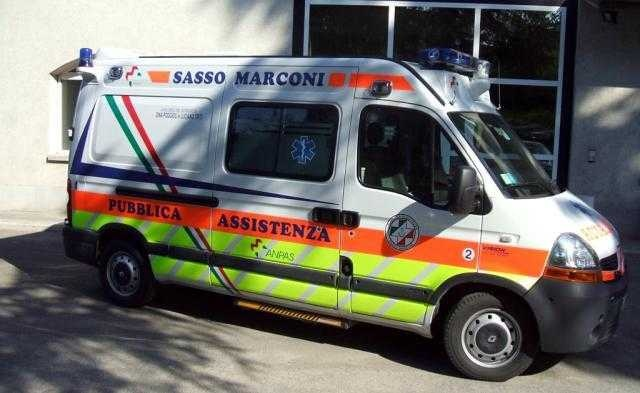Ambulance: (57, 17, 600, 381)
